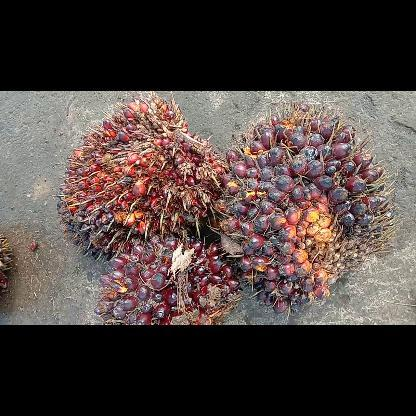Kurang masak: (214, 102, 392, 312), (94, 233, 240, 324)
TBS masak: (56, 94, 228, 258)
